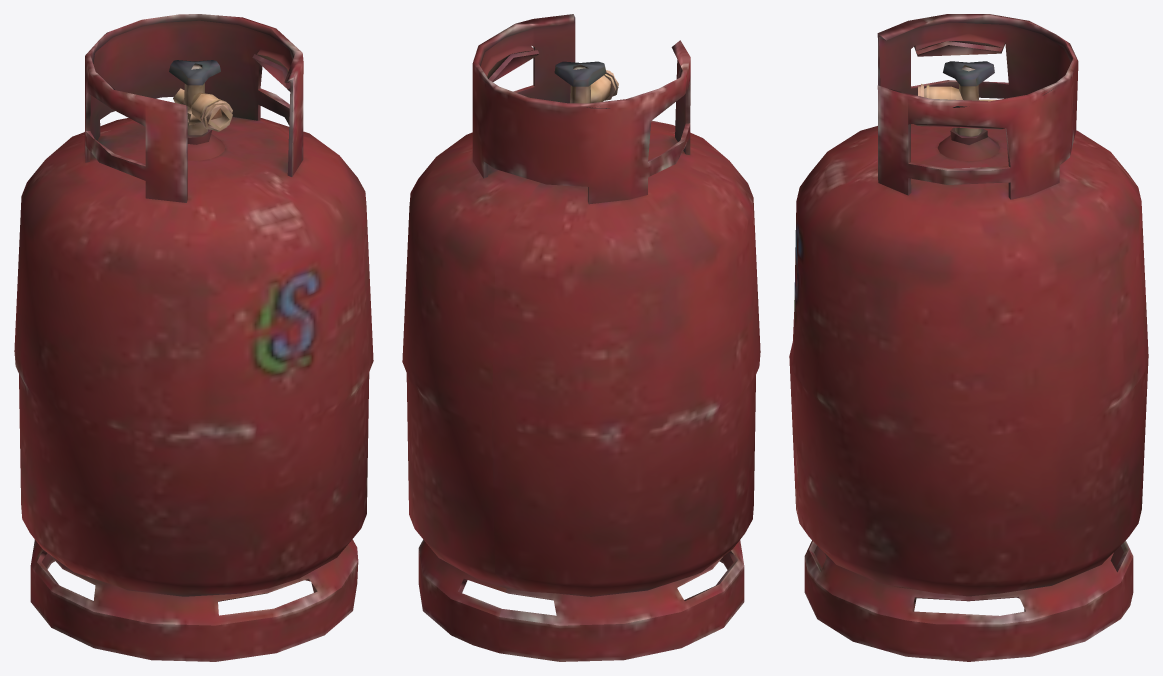
File: propane.glb
3 views of the same model, side by side, from view 1: azimuth 30°, elevation 25°; view 2: azimuth 150°, elevation 25°; view 3: azimuth 270°, elevation 25° (orthographic).
Parts seen in each view (by area): view 1: propane_tank; view 2: propane_tank; view 3: propane_tank.
Boxes of the visible parts, x1,y1,x2,y2 form: propane_tank: [14, 14, 373, 661]; propane_tank: [402, 14, 760, 661]; propane_tank: [789, 14, 1148, 661].
Bounding box in the file's own units: 0.3373 × 0.5534 × 0.3373.
1 material, 1 textured.
